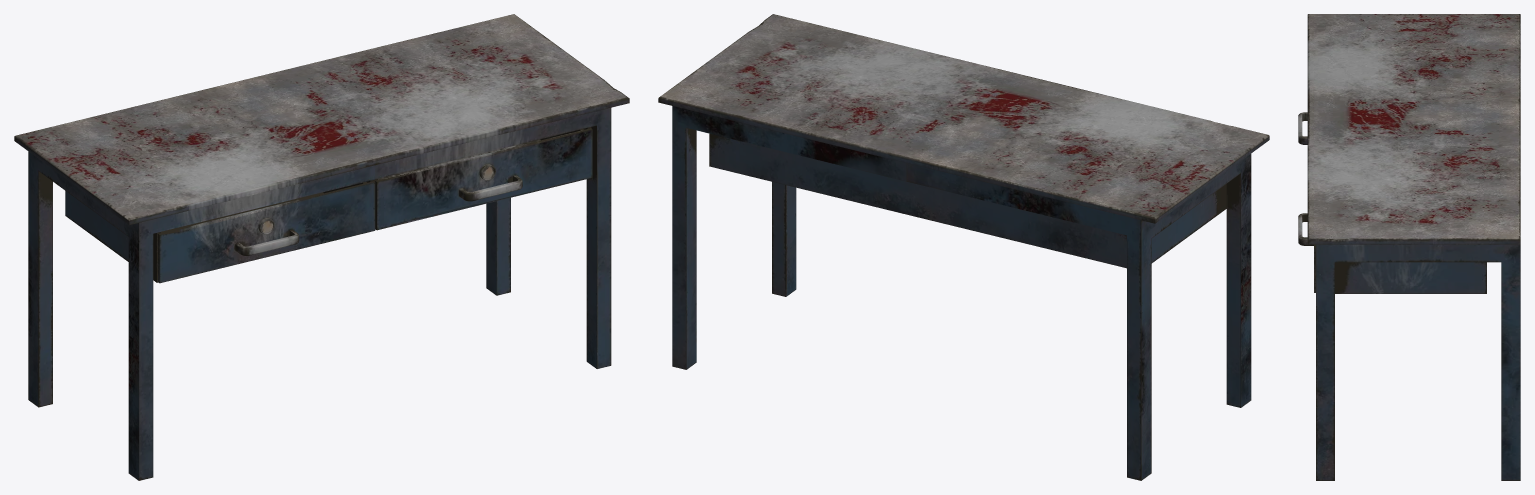
The model's file is table-mechanical.glb.
3 renders of one model, left to right at view 1: azimuth 30°, elevation 25°; view 2: azimuth 150°, elevation 25°; view 3: azimuth 270°, elevation 25°, orthographic. The views are drawn at different scales.
Visible parts, largest first — view 1: Symmetry; view 2: Symmetry; view 3: Symmetry.
Boxes of the visible parts, box(x1,y1,x2,y2) form: Symmetry: box(14, 14, 629, 480); Symmetry: box(658, 14, 1269, 480); Symmetry: box(1298, 14, 1520, 480).
Size of the model in its own units: 3.99 by 2.04 by 1.66.
Materials: 1 (1 with a texture image).
